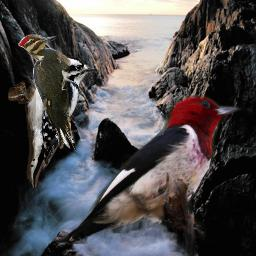Woodpecker: (49, 93, 247, 244), (8, 56, 96, 188), (18, 34, 77, 151)
